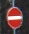No entry: (5, 6, 24, 29)
